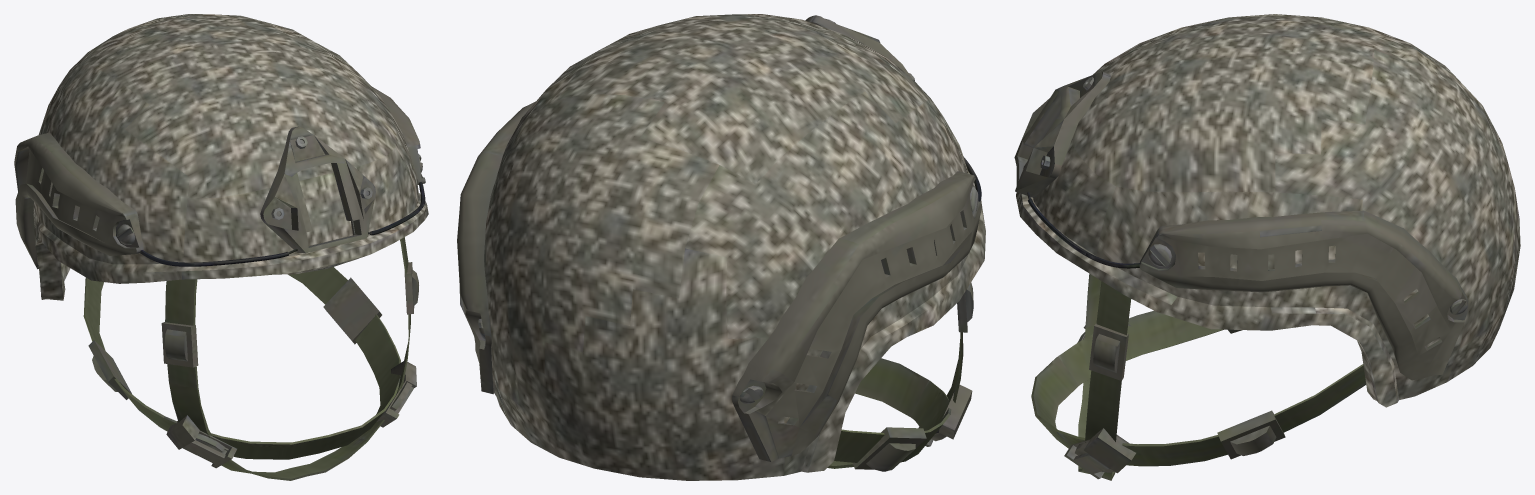
Rendered from fast_cam.glb.
3 renders of one model, left to right at view 1: azimuth 30°, elevation 25°; view 2: azimuth 150°, elevation 25°; view 3: azimuth 270°, elevation 25°, orthographic. The views are drawn at different scales.
Visible parts, largest first — view 1: Object_4; view 2: Object_4; view 3: Object_4.
Boxes of the visible parts, <box> form: Object_4: <box>14,14,428,480</box>; Object_4: <box>457,14,985,480</box>; Object_4: <box>1014,14,1520,480</box>.
Bounding box in the file's own units: 3.77 × 3.93 × 4.21.
Materials: 1 (1 with a texture image).
